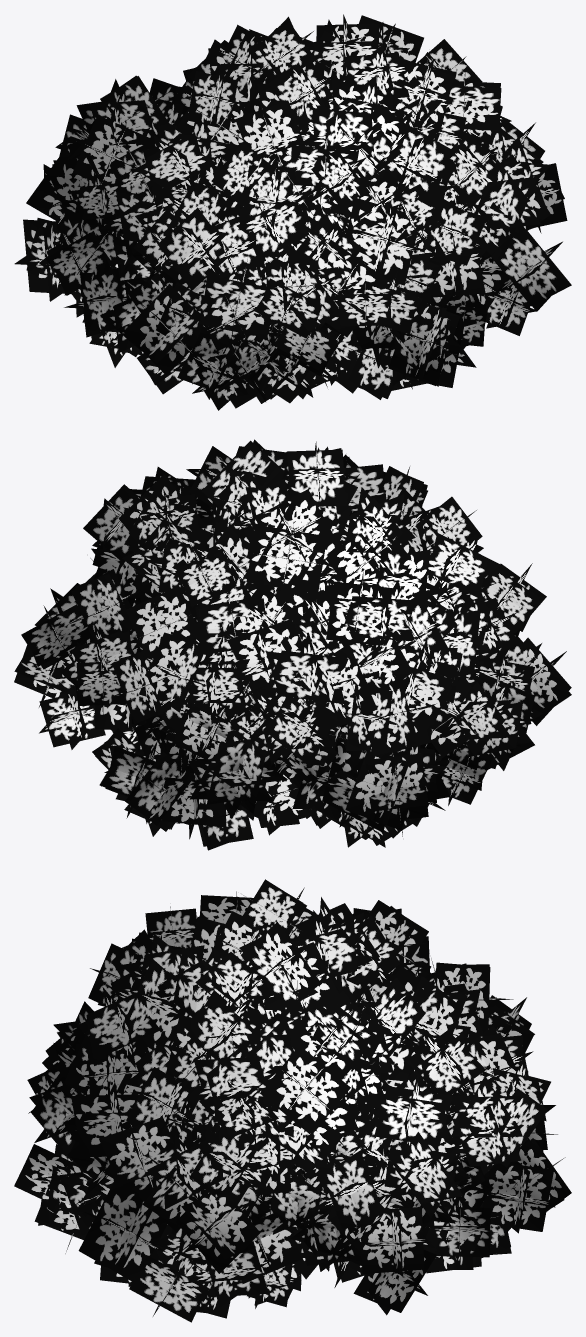
The model's file is SM_Tree_01.fbx.
The picture shows the model from 3 angles, top to bottom: view 1: azimuth 30°, elevation 25°; view 2: azimuth 150°, elevation 25°; view 3: azimuth 270°, elevation 25°; orthographic projection. The views are drawn at different scales.
Parts seen in each view (by area): view 1: Plane.001; view 2: Plane.001; view 3: Plane.001.
Part boxes in pixels (bbox=[...]): Plane.001: bbox=[14, 14, 571, 410]; Plane.001: bbox=[14, 439, 571, 850]; Plane.001: bbox=[14, 879, 571, 1322].
Bounding box in the file's own units: 252 × 182 × 238.
